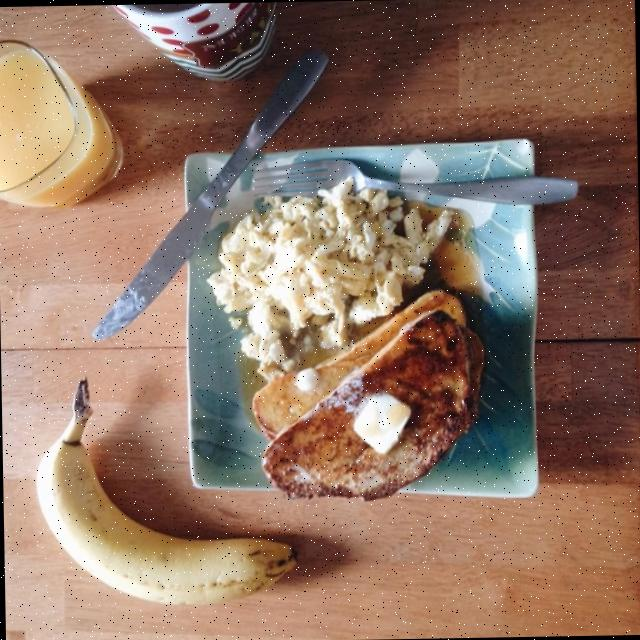banana: (37, 378, 299, 604)
